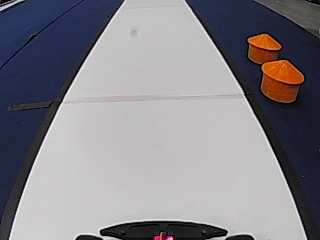granary: (259, 58, 306, 103), (245, 31, 282, 63)
